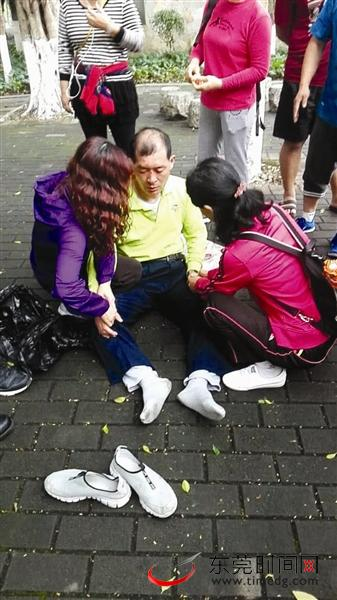fall: (85, 124, 222, 435)
